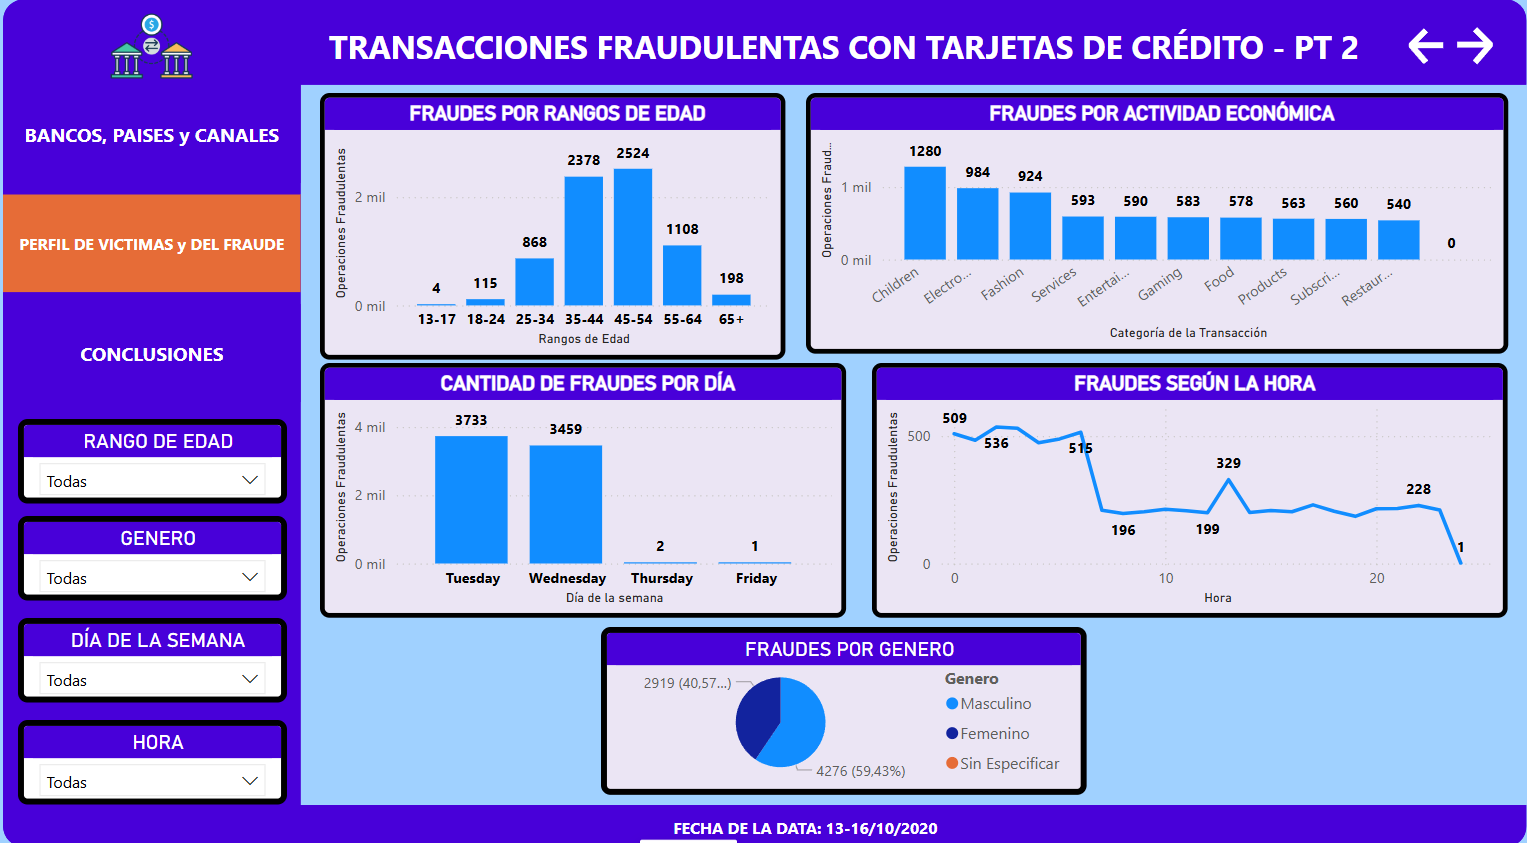

What the dashboard file says about the page in this screenshot:
{"tool":"powerbi","page":{"name":"PERFIL DE VICTIMAS y DEL FRAUDE","canvas":[1280,720],"ordinal":1},"visuals":[{"type":"shape","box":[0,7.8,1280,72.2],"z":0},{"type":"shape","box":[0,64.4,250,620],"z":1000},{"type":"pageNavigator","box":[0,80,250,268.9],"z":2000},{"type":"columnChart","title":"FRAUDES POR ACTIVIDAD ECONÓMICA","fields":{"Y":["Sum(db_report_fraud_bank_v2 dataclean_creditcard_transform_csv.fraud)"],"Category":["db_report_fraud_bank_v2 dataclean_creditcard_transform_csv.merchant_group"]},"box":[674.4,86.7,590,218.9],"z":3000},{"type":"columnChart","title":"FRAUDES POR RANGOS DE EDAD","fields":{"Category":["db_report_fraud_bank_v2 dataclean_creditcard_transform_csv.GrupoEdad"],"Y":["Sum(db_report_fraud_bank_v2 dataclean_creditcard_transform_csv.fraud)"]},"box":[266.7,86.7,391.1,224.4],"z":4000},{"type":"slicer","title":"DÍA DE LA SEMANA","fields":{"Values":["db_report_fraud_bank_v2 dataclean_creditcard_transform_csv.day_of_week"]},"box":[12.2,527.8,225.6,71.1],"z":5000},{"type":"shape","box":[0,684.4,1280,35.6],"z":6000},{"type":"pieChart","title":"FRAUDES POR GENERO","fields":{"Category":["db_report_fraud_bank_v2 dataclean_creditcard_transform_csv.Genero"],"Y":["Sum(db_report_fraud_bank_v2 dataclean_creditcard_transform_csv.fraud)"]},"box":[502.2,535.6,407.8,141.1],"z":7000},{"type":"slicer","title":"GENERO","fields":{"Values":["db_report_fraud_bank_v2 dataclean_creditcard_transform_csv.Genero"]},"box":[12.2,442.2,225.6,71.1],"z":8000},{"type":"slicer","title":"RANGO DE EDAD","fields":{"Values":["db_report_fraud_bank_v2 dataclean_creditcard_transform_csv.GrupoEdad"]},"box":[12.2,360,225.6,71.1],"z":9000},{"type":"slicer","title":"HORA","fields":{"Values":["db_report_fraud_bank_v2 dataclean_creditcard_transform_csv.time"]},"box":[12.2,613.3,225.6,71.1],"z":10000},{"type":"clusteredColumnChart","title":"CANTIDAD DE FRAUDES POR DÍA","fields":{"Category":["db_report_fraud_bank_v2 dataclean_creditcard_transform_csv.day_of_week"],"Y":["Sum(db_report_fraud_bank_v2 dataclean_creditcard_transform_csv.fraud)"]},"box":[266.7,313.3,442.2,214.4],"z":11000},{"type":"lineChart","title":"FRAUDES SEGÚN LA HORA","fields":{"Category":["db_report_fraud_bank_v2 dataclean_creditcard_transform_csv.time"],"Y":["Sum(db_report_fraud_bank_v2 dataclean_creditcard_transform_csv.fraud)"]},"box":[730,313.3,534.4,214.4],"z":12000},{"type":"textbox","box":[250,24.4,912.2,45.6],"z":13000},{"type":"actionButton","box":[1215.6,26.7,48.9,40],"z":14000},{"type":"actionButton","box":[1176.7,26.7,38.9,40],"z":15000},{"type":"image","box":[66.7,7.8,117.8,78.9],"z":16000},{"type":"textbox","box":[501.1,690,346.7,30],"z":17000}]}

Visuals, with their boxes in screenshot pixels (x1, y1, x2, y2), scaled from the page's 1280x720 canvas onto the 1527x843 screenshot:
shape: rect(0, 9, 1526, 94)
shape: rect(0, 75, 298, 801)
pageNavigator: rect(0, 94, 298, 409)
"FRAUDES POR ACTIVIDAD ECONÓMICA" columnChart: rect(805, 102, 1508, 358)
"FRAUDES POR RANGOS DE EDAD" columnChart: rect(318, 102, 785, 364)
"DÍA DE LA SEMANA" slicer: rect(15, 618, 284, 701)
shape: rect(0, 801, 1526, 842)
"FRAUDES POR GENERO" pieChart: rect(599, 627, 1086, 792)
"GENERO" slicer: rect(15, 518, 284, 601)
"RANGO DE EDAD" slicer: rect(15, 422, 284, 505)
"HORA" slicer: rect(15, 718, 284, 801)
"CANTIDAD DE FRAUDES POR DÍA" clusteredColumnChart: rect(318, 367, 846, 618)
"FRAUDES SEGÚN LA HORA" lineChart: rect(871, 367, 1508, 618)
textbox: rect(298, 29, 1386, 82)
actionButton: rect(1450, 31, 1509, 78)
actionButton: rect(1404, 31, 1450, 78)
image: rect(80, 9, 220, 102)
textbox: rect(598, 808, 1011, 842)
